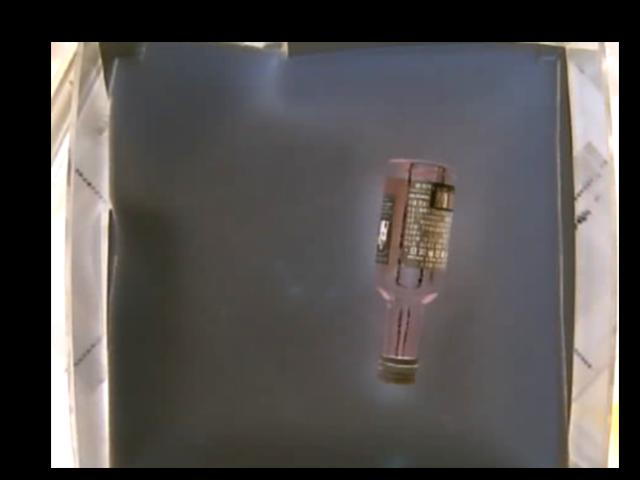Bottle: (372, 156, 456, 385)
